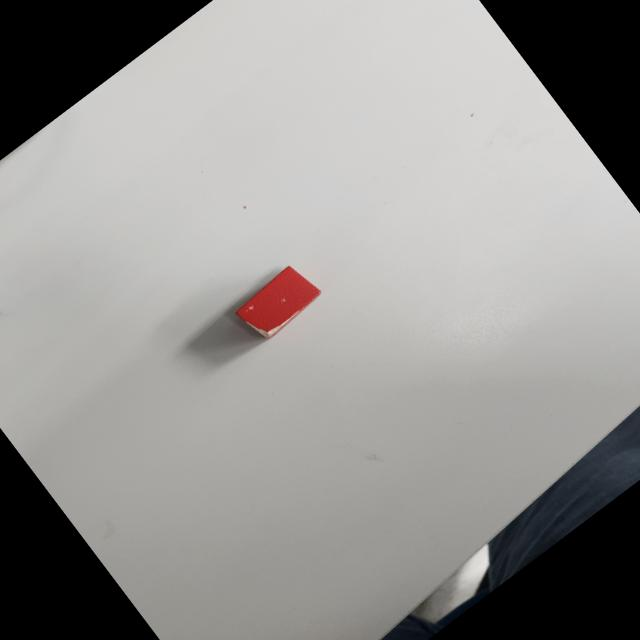broken: (231, 258, 326, 347)
